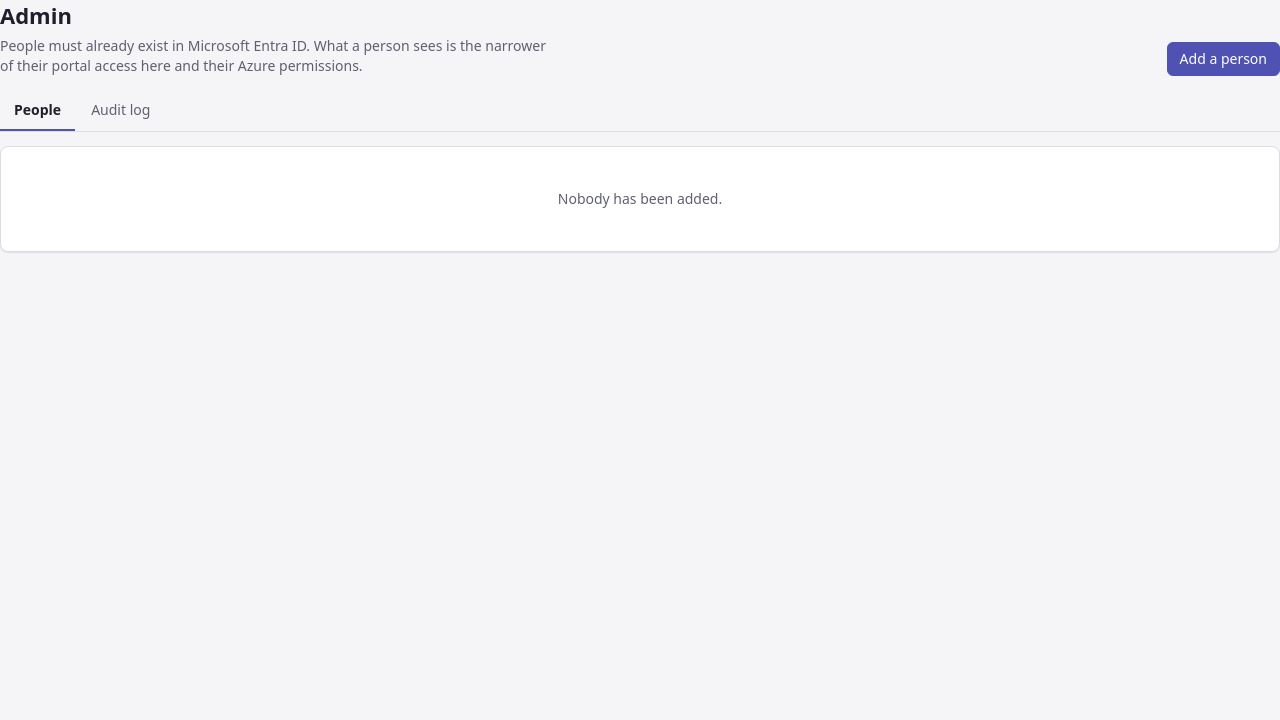
Test: AdminPage › checks Entra before adding a person
This screenshot has width=1280, height=720.
Later steps or results of the test are not shown.
Click the button "Add a person" at x=1223, y=59, box x1=1167 y1=42 x2=1279 y2=76
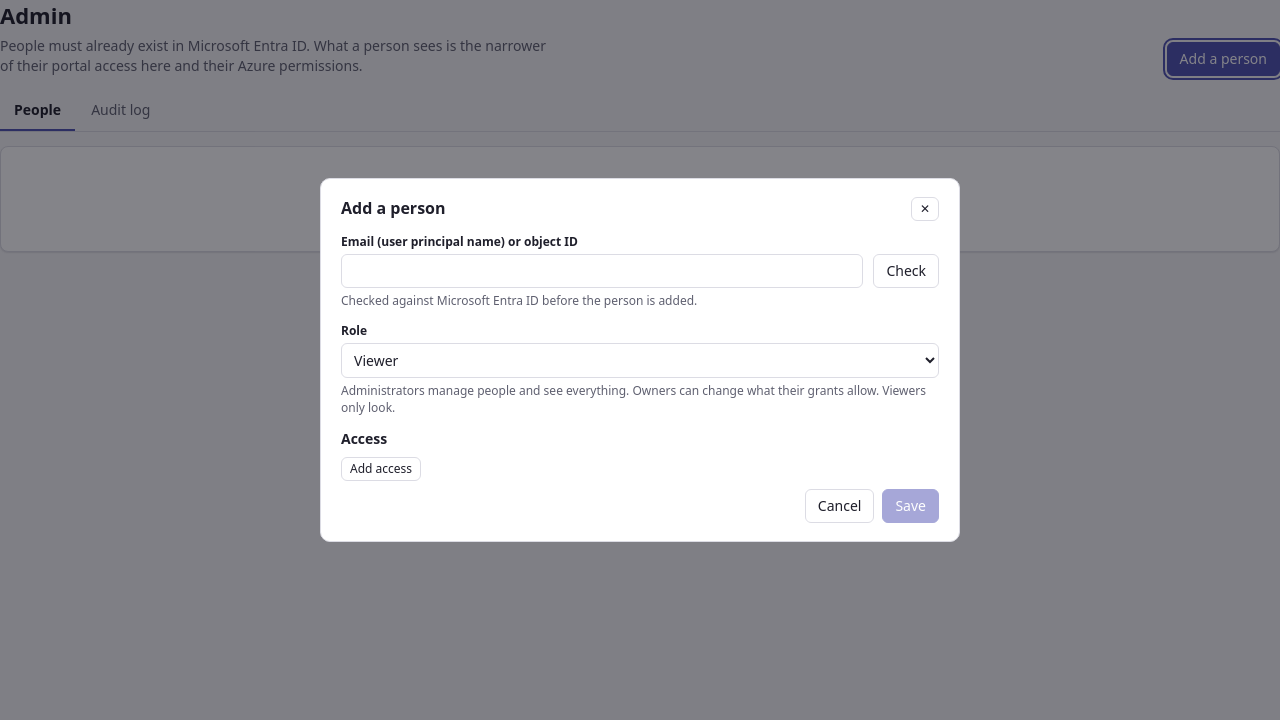
expect the button "Save" is disabled: met, box x1=882 y1=488 x2=939 y2=523
Type "new@x.com" into the field labelled "Email (user principal name) or object ID" at x=602, y=271, box x1=341 y1=254 x2=863 y2=288
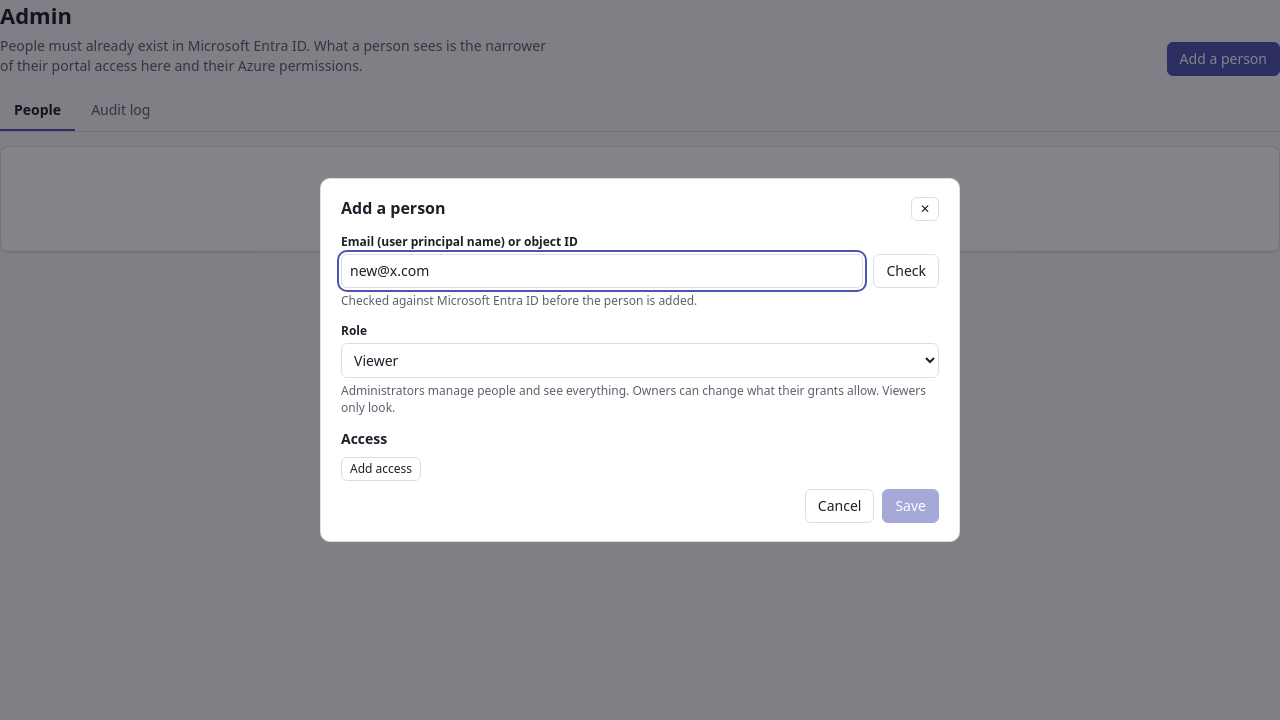
Click the button "Check" at x=906, y=271, box x1=873 y1=254 x2=939 y2=288
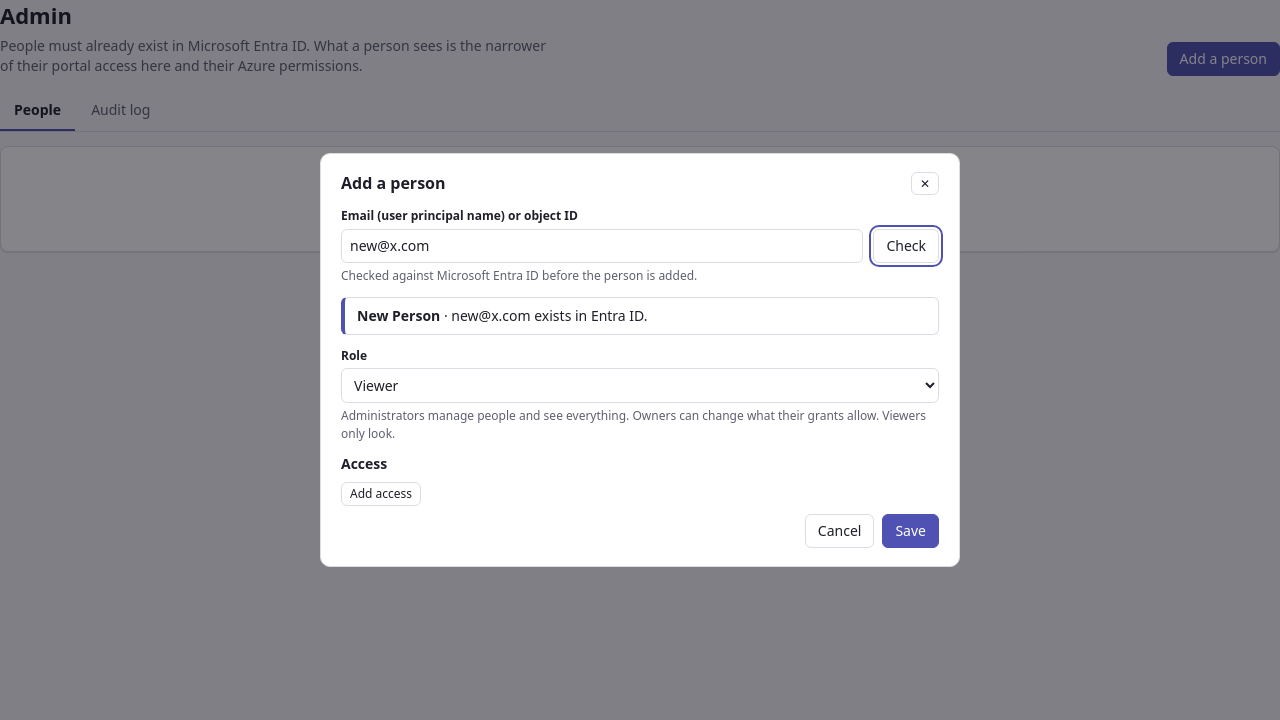
expect the text "New Person · new@x.com exists in Entra ID." is shown: met, box x1=341 y1=296 x2=939 y2=335
Click the button "Add access" at x=381, y=494, box x1=341 y1=482 x2=421 y2=506
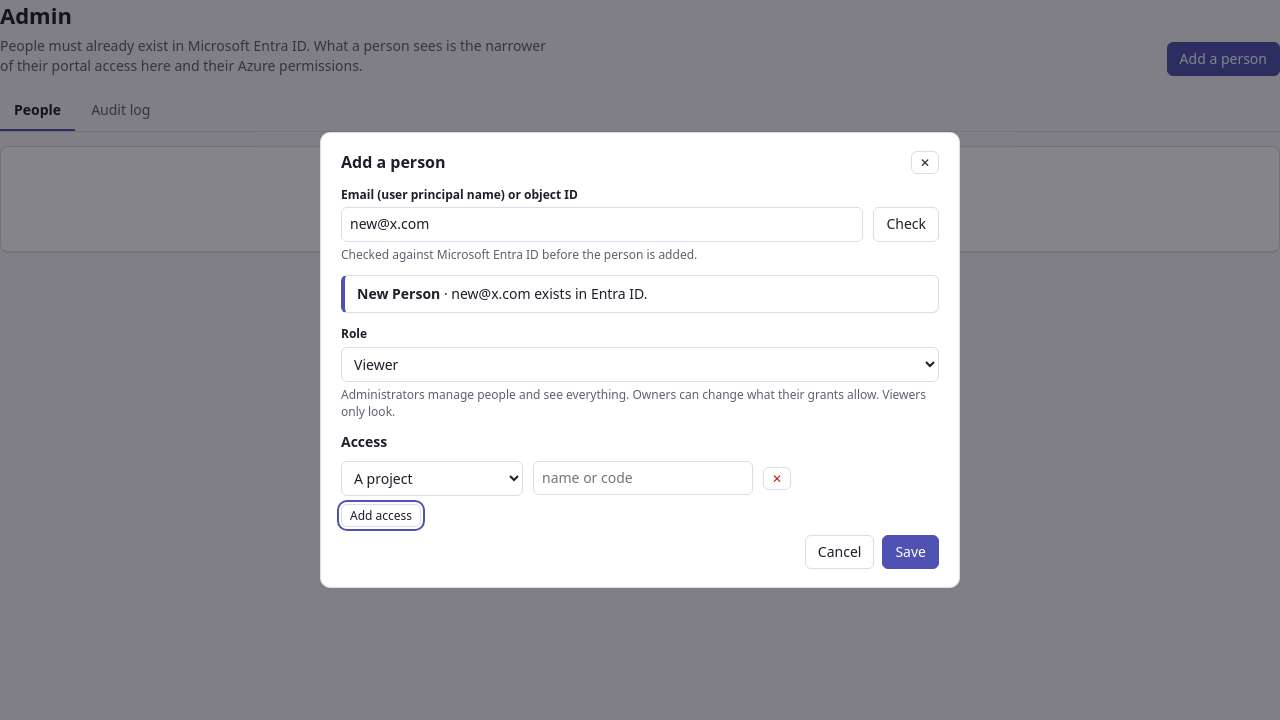
Type "fraud-risk" into the field named "Scope value" at x=643, y=478, box x1=533 y1=461 x2=753 y2=495
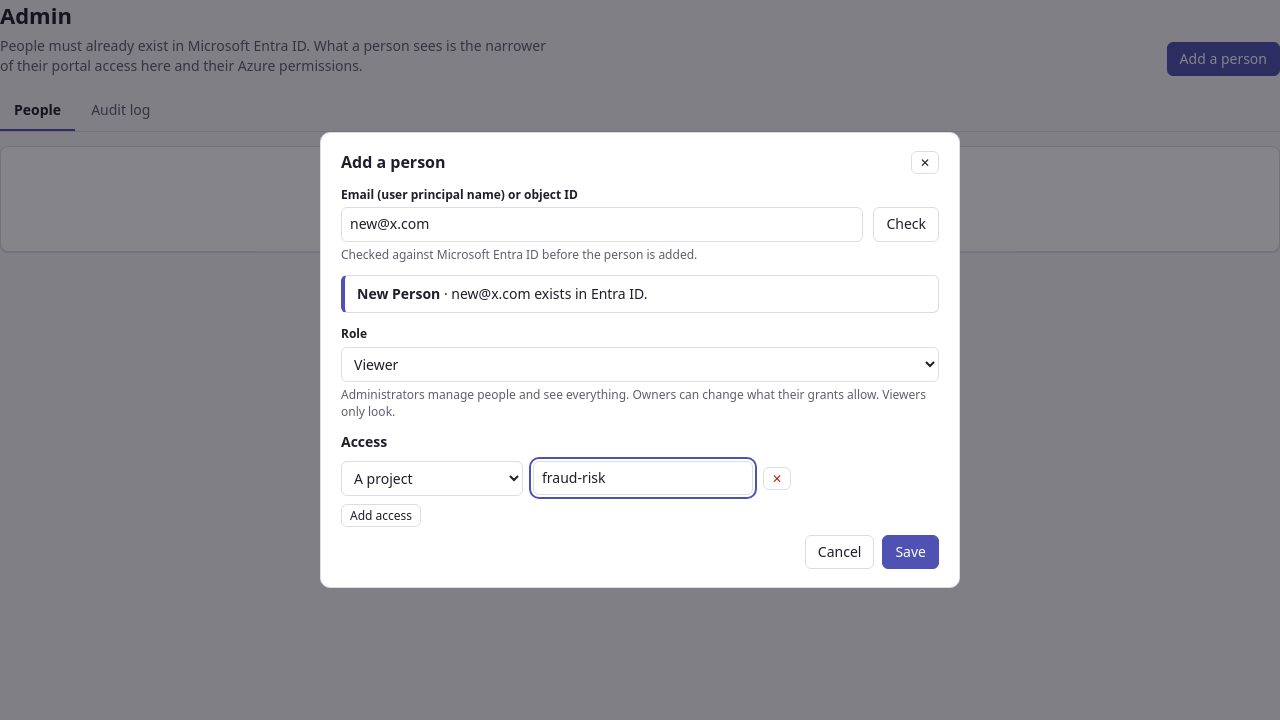
expect the button "Save" is enabled: met, box x1=882 y1=535 x2=939 y2=570
